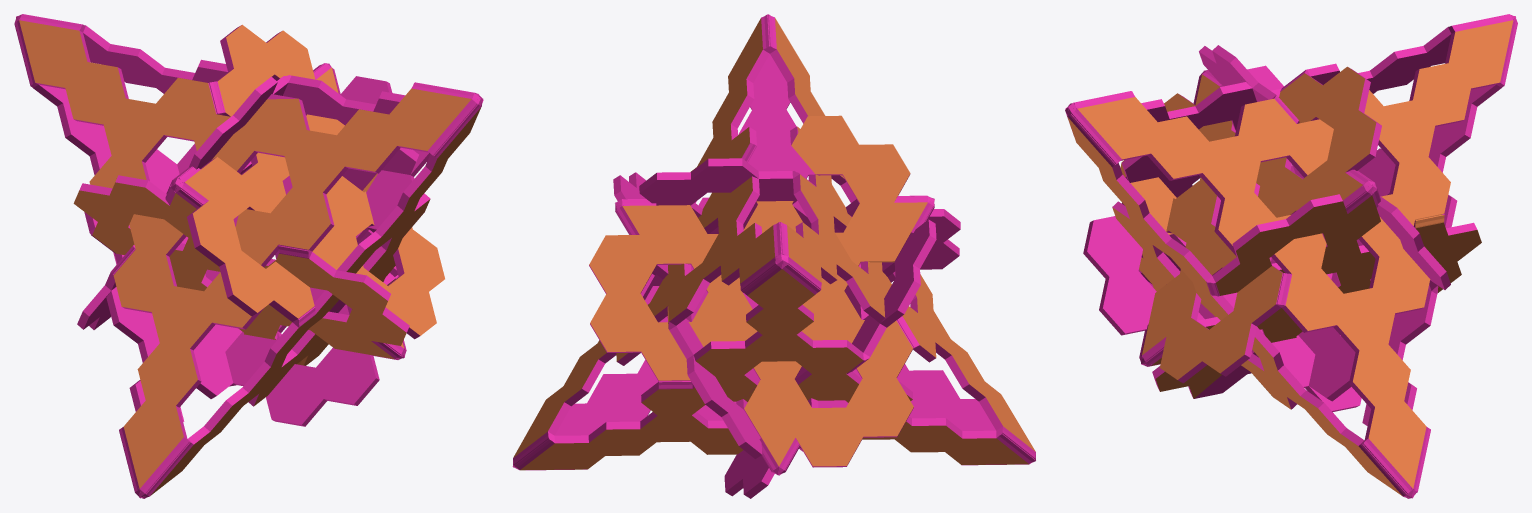
Rendered from RoelofsHoldenMerkabaPolylinknot.glb.
3 renders of one model, left to right at view 1: azimuth 30°, elevation 25°; view 2: azimuth 150°, elevation 25°; view 3: azimuth 270°, elevation 25°, orthographic.
Visible parts, largest first — view 1: ROELOFS_ESCHER_HOLDEN_5.0_STELLATED_TETRAHEDRAL_POLYLINKNOT_; view 2: ROELOFS_ESCHER_HOLDEN_5.0_STELLATED_TETRAHEDRAL_POLYLINKNOT_; view 3: ROELOFS_ESCHER_HOLDEN_5.0_STELLATED_TETRAHEDRAL_POLYLINKNOT_.
Part boxes in pixels (bbox=[...]): ROELOFS_ESCHER_HOLDEN_5.0_STELLATED_TETRAHEDRAL_POLYLINKNOT_: bbox=[14, 14, 483, 498]; ROELOFS_ESCHER_HOLDEN_5.0_STELLATED_TETRAHEDRAL_POLYLINKNOT_: bbox=[512, 14, 1035, 498]; ROELOFS_ESCHER_HOLDEN_5.0_STELLATED_TETRAHEDRAL_POLYLINKNOT_: bbox=[1065, 14, 1517, 498].
Bounding box in the file's own units: 116 × 100 × 115.
